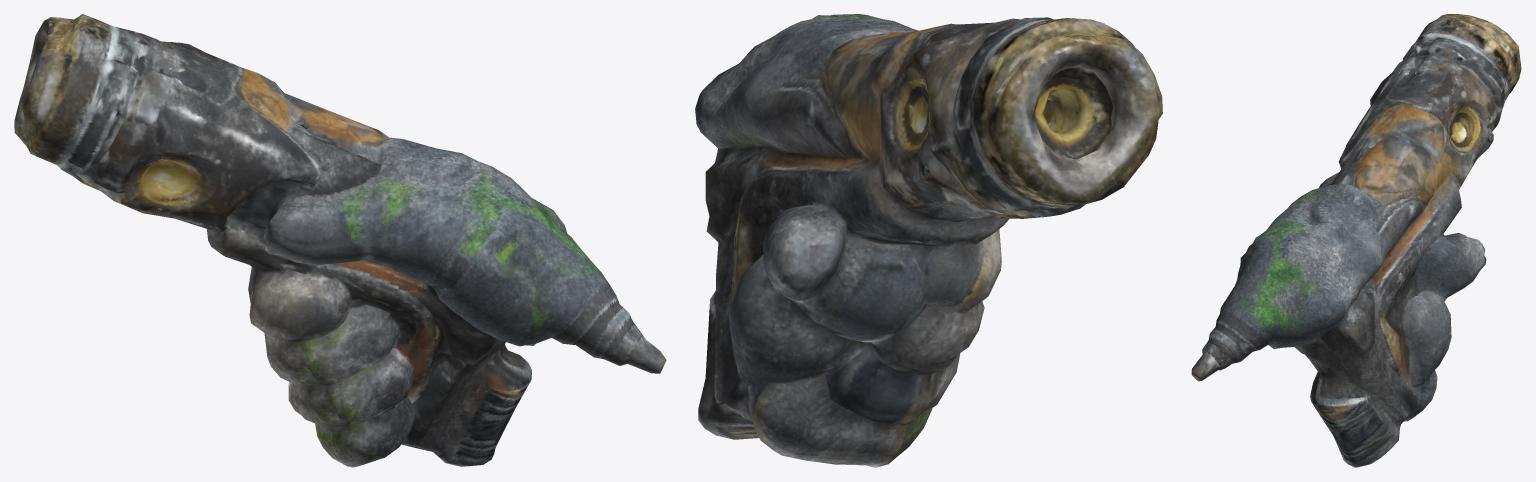
The model's file is cutter.glb.
3 renders of one model, left to right at view 1: azimuth 30°, elevation 25°; view 2: azimuth 150°, elevation 25°; view 3: azimuth 270°, elevation 25°, orthographic. The views are drawn at different scales.
Parts seen in each view (by area): view 1: low; view 2: low; view 3: low.
Part boxes in pixels (box(x1,y1,x2,y2)): low: box(14, 14, 666, 467); low: box(695, 14, 1162, 467); low: box(1191, 14, 1521, 467).
Size of the model in its own units: 0.7 by 0.6593 by 0.5927.
1 material, 1 textured.
